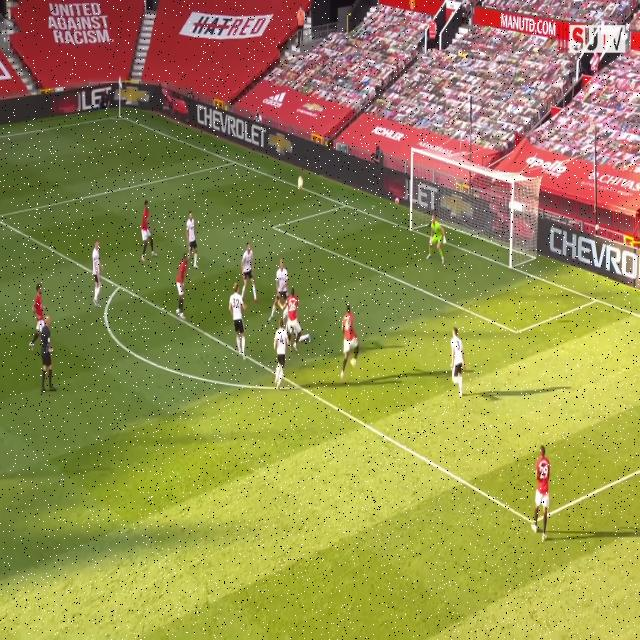Ball: (297, 172, 305, 194)
GoalKeeper: (428, 218, 448, 266)
TEAM 1: (533, 446, 554, 539), (340, 306, 360, 374), (177, 247, 192, 319), (29, 284, 45, 349), (285, 294, 303, 347), (139, 200, 154, 263)
TEAM 2: (230, 282, 248, 358), (272, 319, 290, 391), (449, 329, 466, 400), (270, 262, 290, 322), (240, 242, 258, 304), (184, 208, 200, 268), (92, 241, 104, 309)
